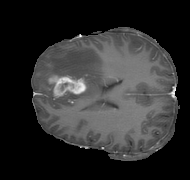Edema: (40, 45, 114, 101)
EnhancingTumors: (44, 72, 86, 98)
Necrosis: (48, 76, 79, 93)
